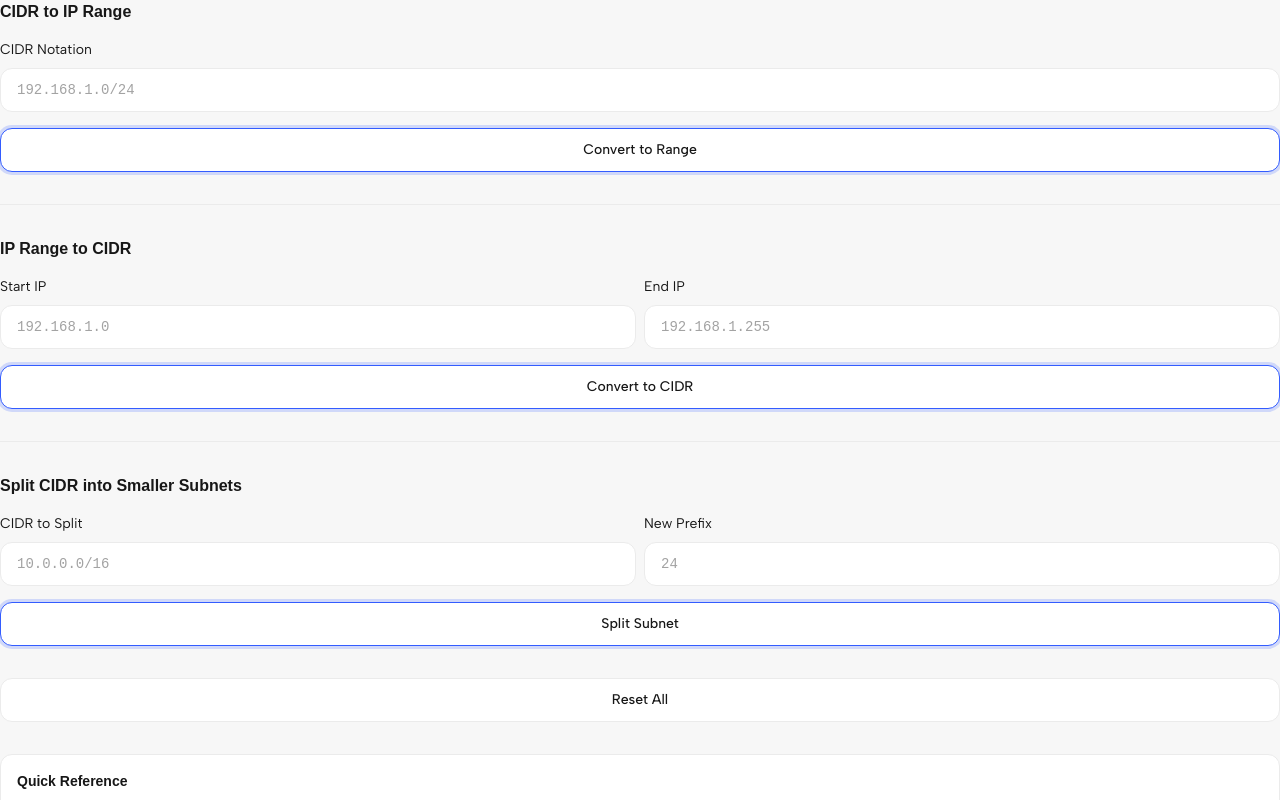
Test case: CidrCalculatorTool › shows error for invalid CIDR notation
Type "invalid" into the field with placeholder "192.168.1.0/24".
click(640, 90); type("invalid")  # box [0, 68, 1279, 112]
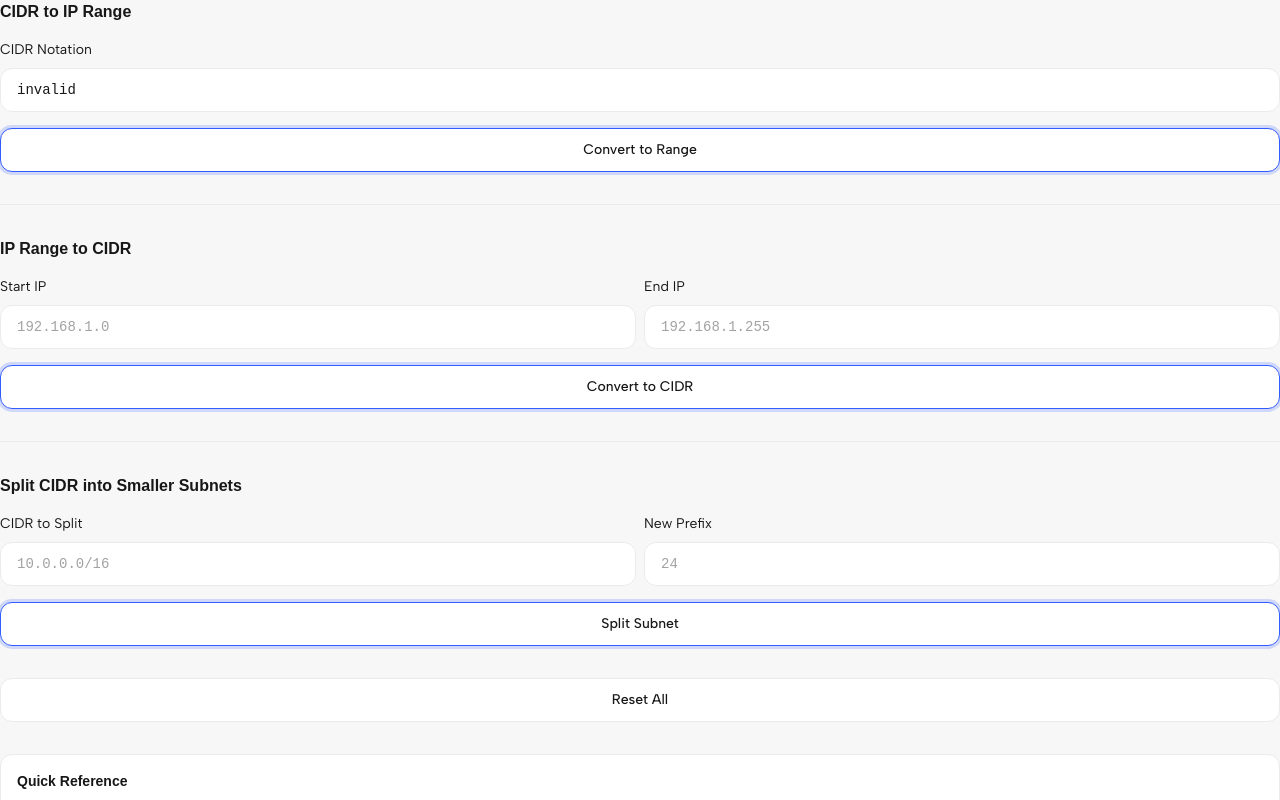
Click the button "Convert to Range".
click(640, 150)  # box [0, 128, 1279, 172]
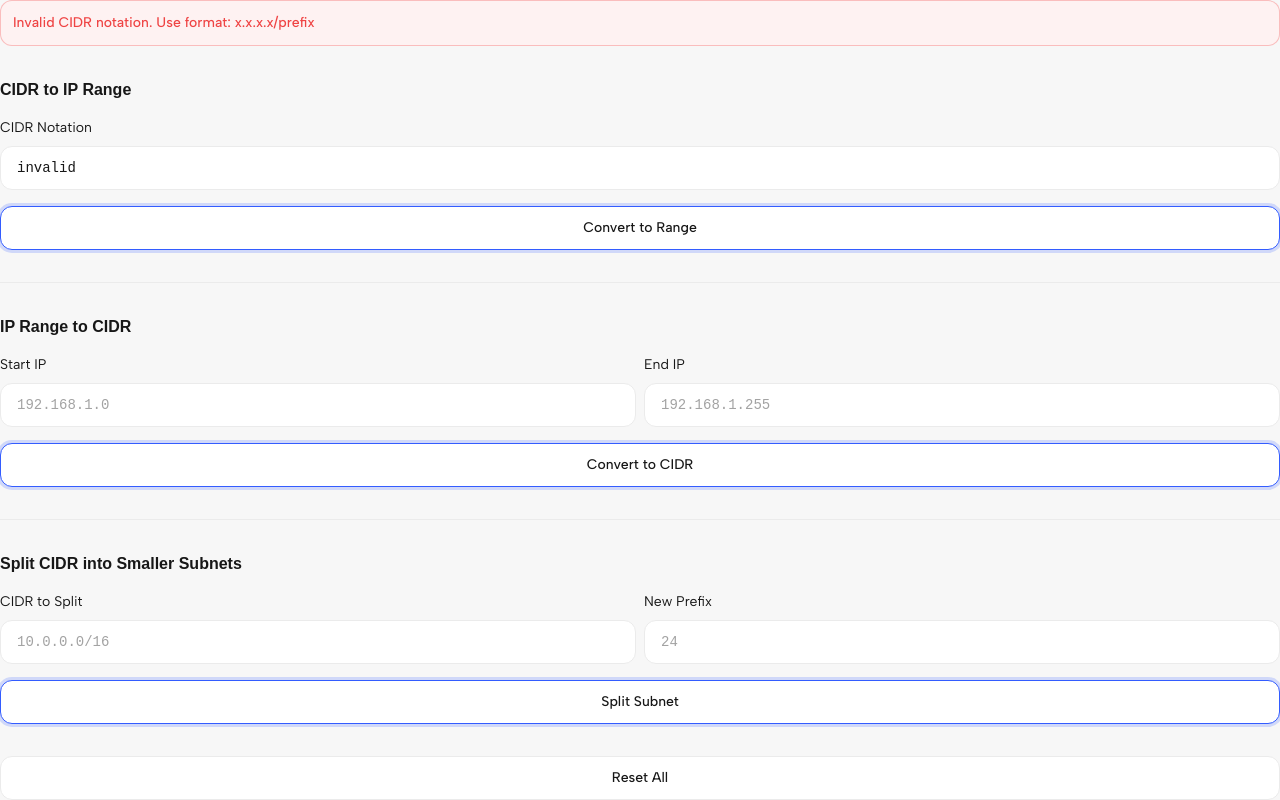
Now the text "Invalid CIDR notation. Use format: x.x.x.x/prefix" is shown, box [13, 14, 314, 31]
